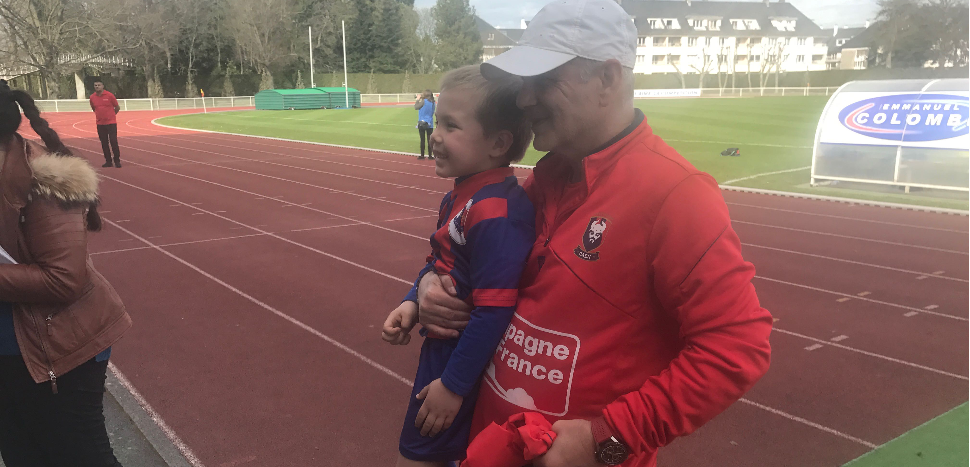without_mask: (517, 61, 584, 149), (432, 104, 486, 172)
